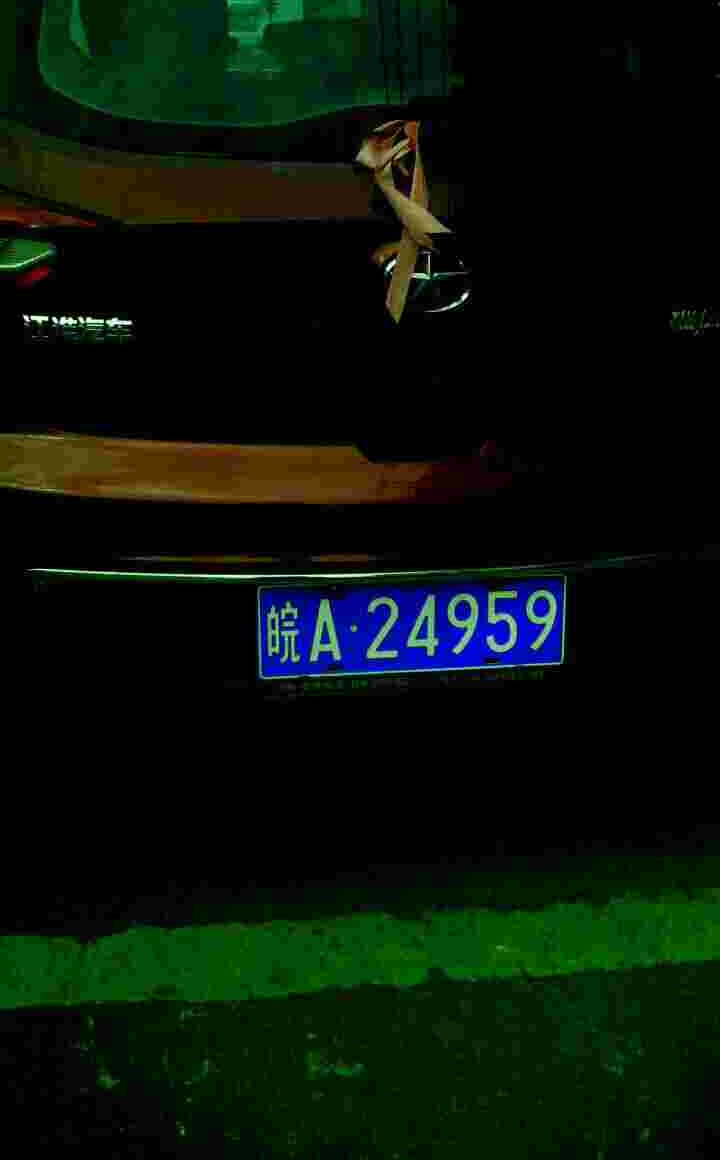license_plate: (246, 566, 574, 684)
